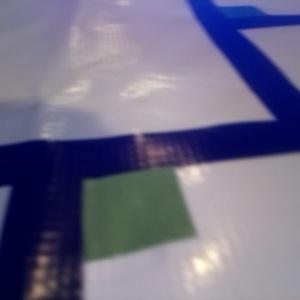bottom_right: (13, 143, 195, 260)
top_right: (201, 5, 266, 26)
